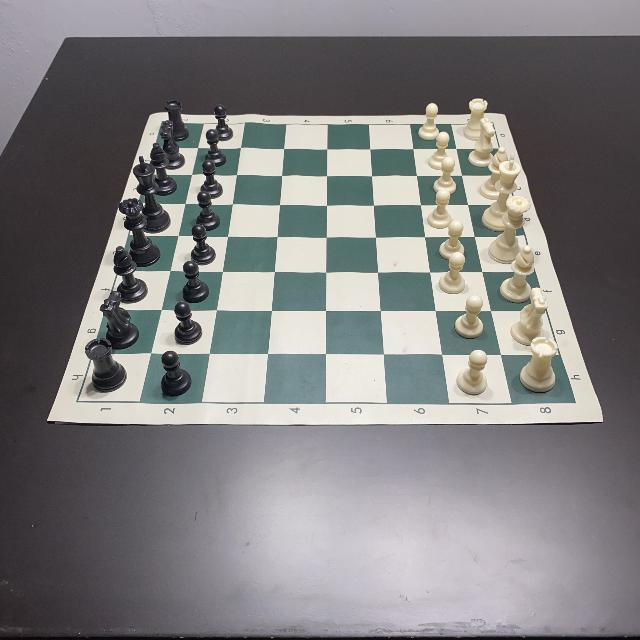black-bishop: (113, 246, 149, 304), (147, 143, 175, 194)
black-king: (131, 157, 169, 233)
black-knight: (100, 291, 138, 349), (158, 120, 185, 170)
black-pawn: (160, 349, 192, 396), (182, 262, 210, 304), (175, 303, 203, 345), (188, 223, 216, 264), (194, 192, 222, 230), (197, 160, 223, 200), (210, 104, 236, 142), (201, 130, 227, 167)
black-queen: (117, 198, 159, 266)
black-rook: (84, 337, 128, 391), (162, 98, 190, 142)
board: (42, 112, 604, 424)
white-bishop: (498, 246, 536, 302), (478, 148, 512, 196)
white-king: (481, 154, 522, 232)
white-knight: (507, 288, 549, 346), (468, 118, 494, 164)
white-pawn: (454, 349, 488, 395), (452, 295, 486, 339), (436, 253, 466, 295), (439, 220, 467, 258), (426, 188, 452, 228), (426, 132, 452, 170), (432, 156, 458, 194), (418, 102, 444, 140)
white-queen: (486, 196, 532, 264)
white-rook: (517, 336, 559, 392), (463, 99, 485, 140)
